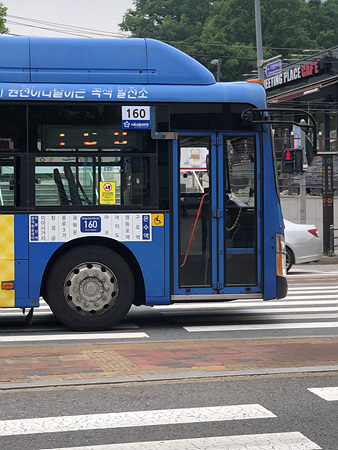entrance: (170, 123, 267, 303)
